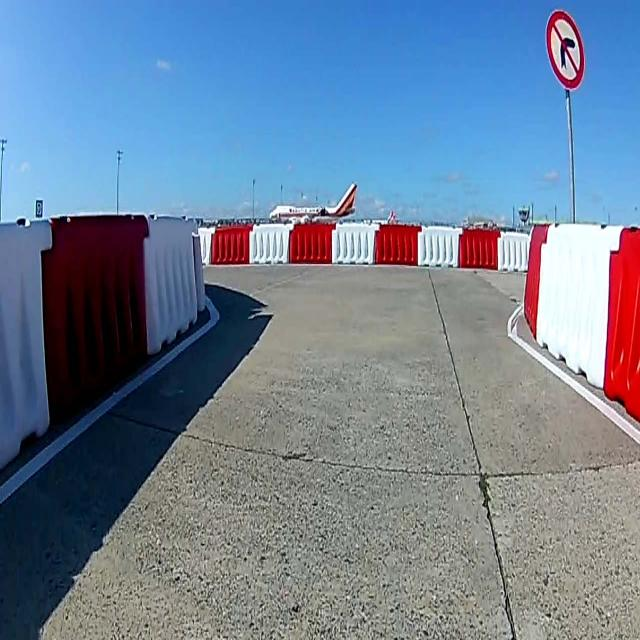sagadonulmez: (546, 10, 584, 90)
